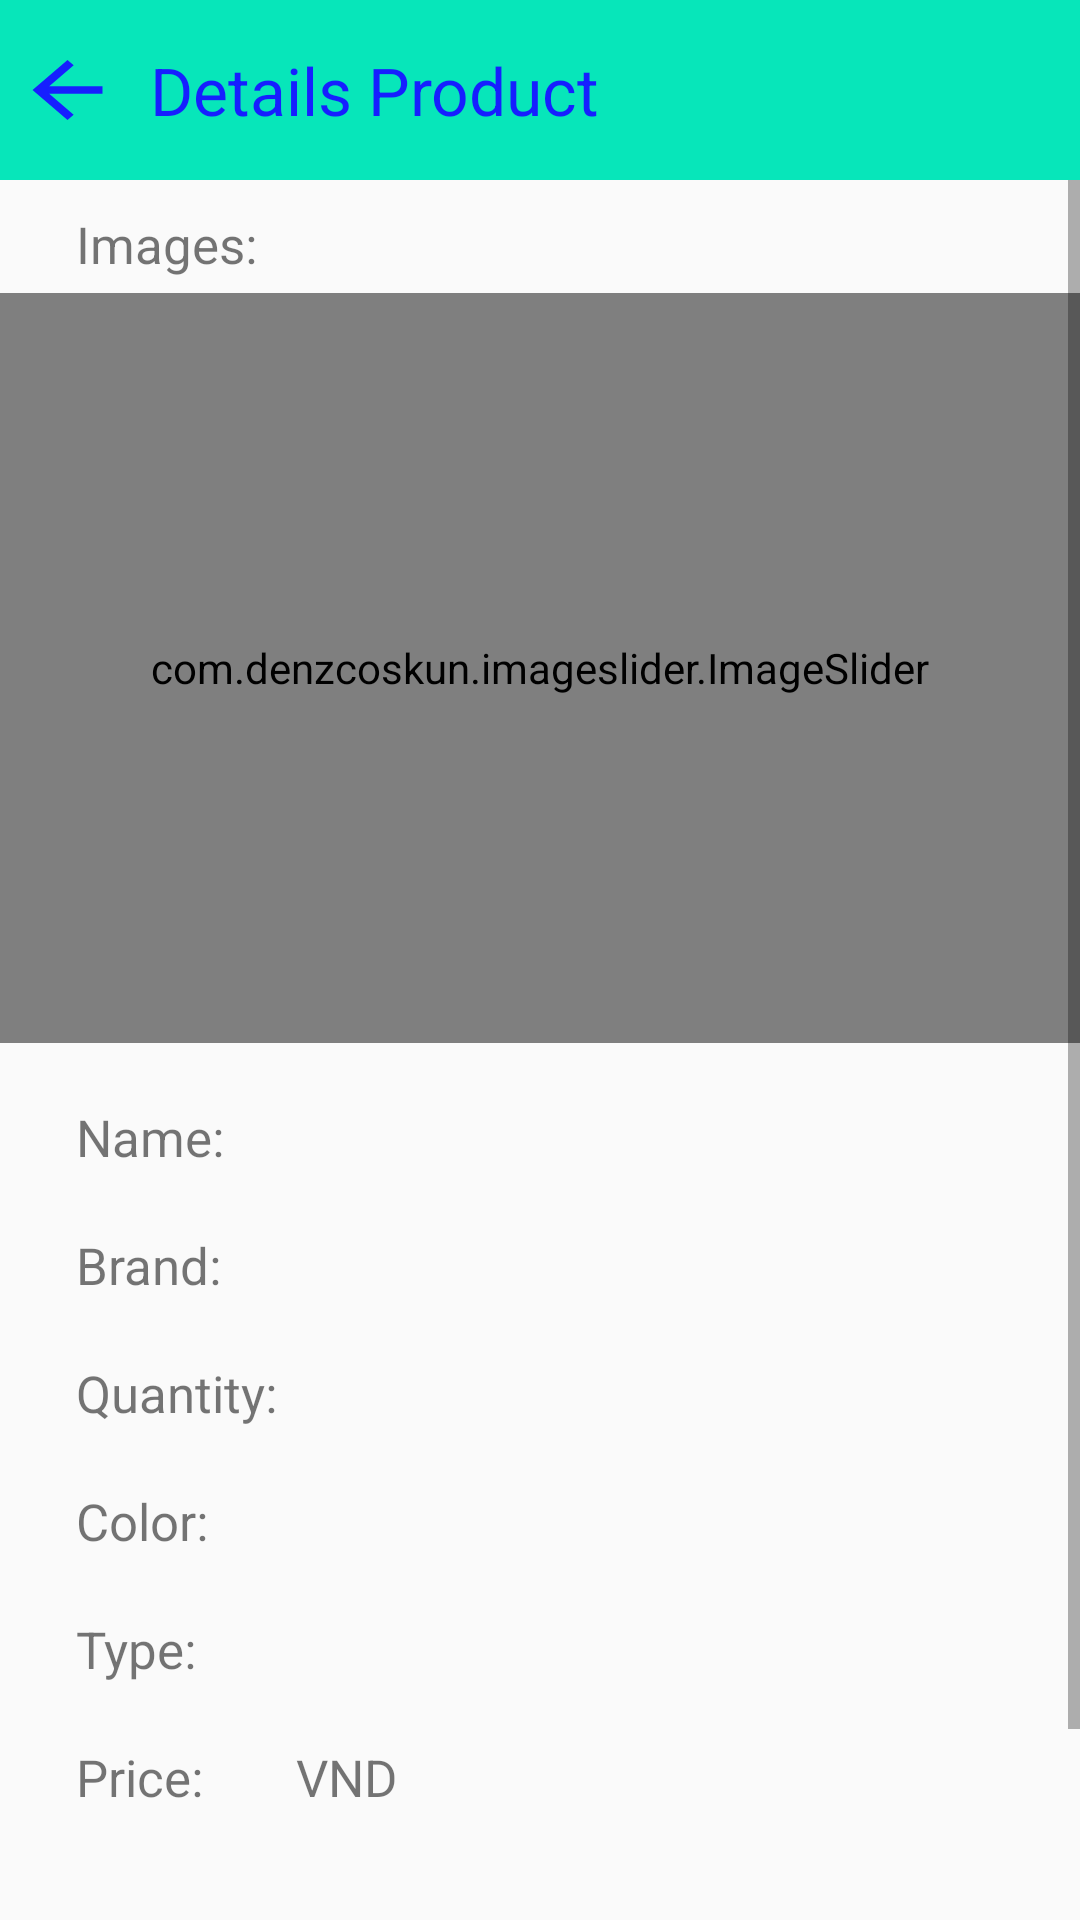

Where to tap for icons on this 1080*1920 app screen, as (x=x, y=y):
arrow back: (x=68, y=90)
